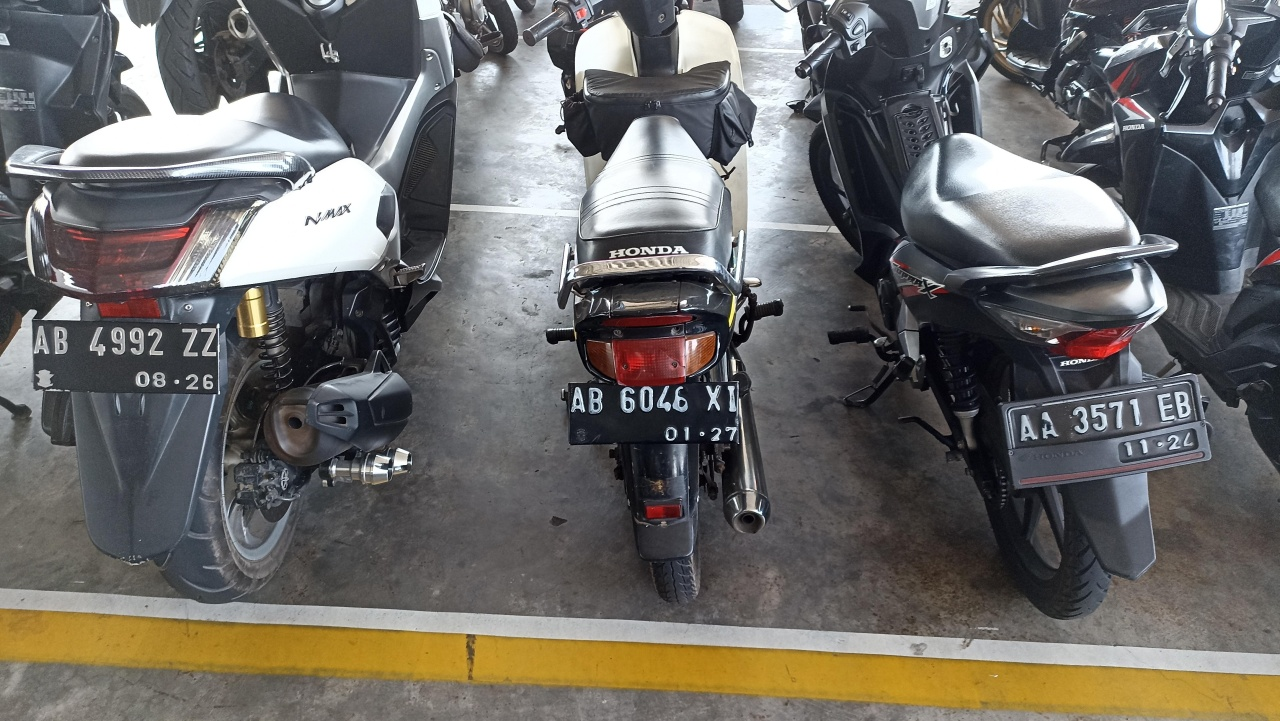plate: (1005, 377, 1210, 487), (32, 319, 220, 394), (570, 382, 738, 445)
